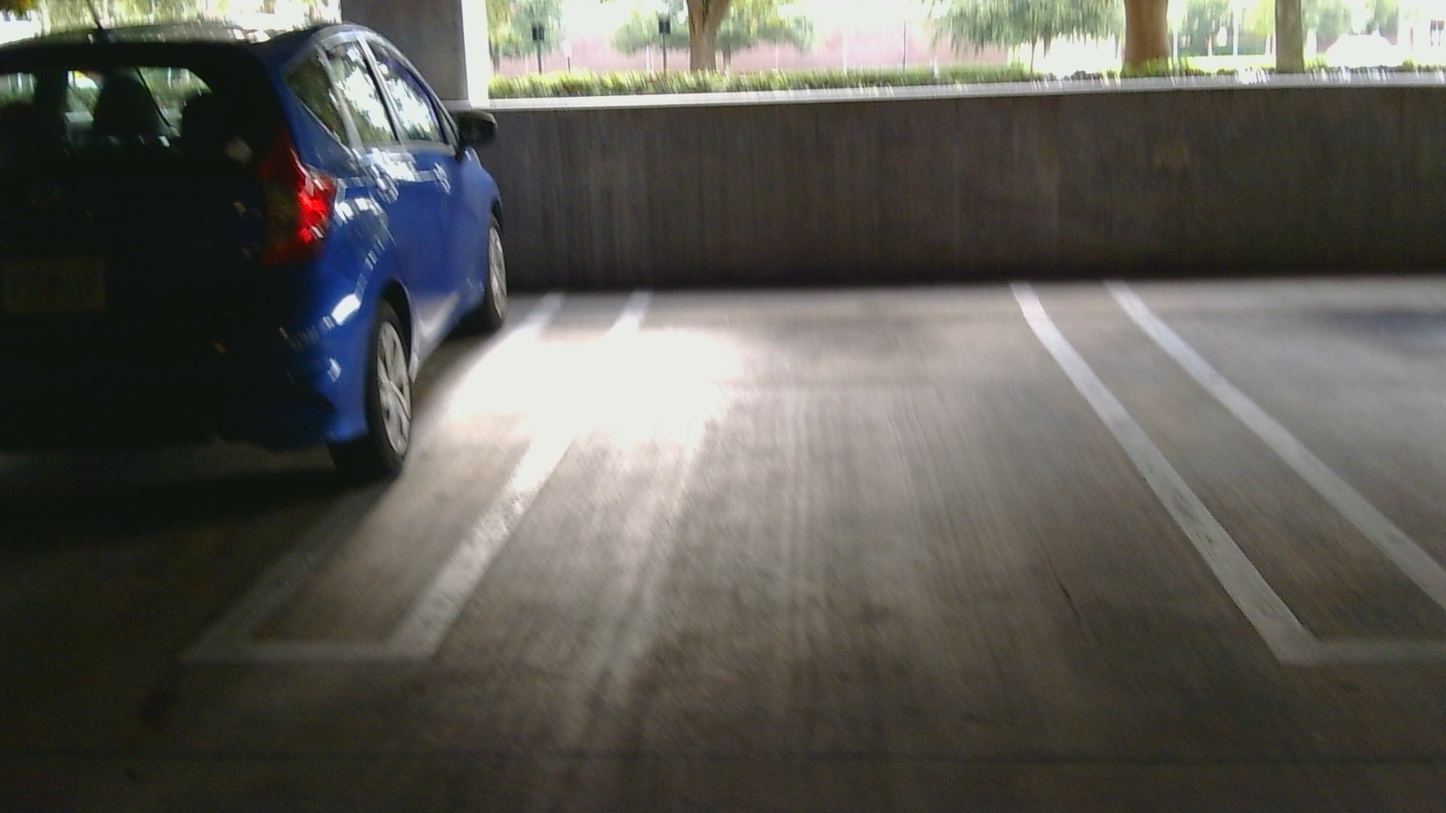empty_spot: (318, 167, 1372, 637), (1090, 166, 1445, 634)
occupied_spot: (0, 18, 515, 515)
